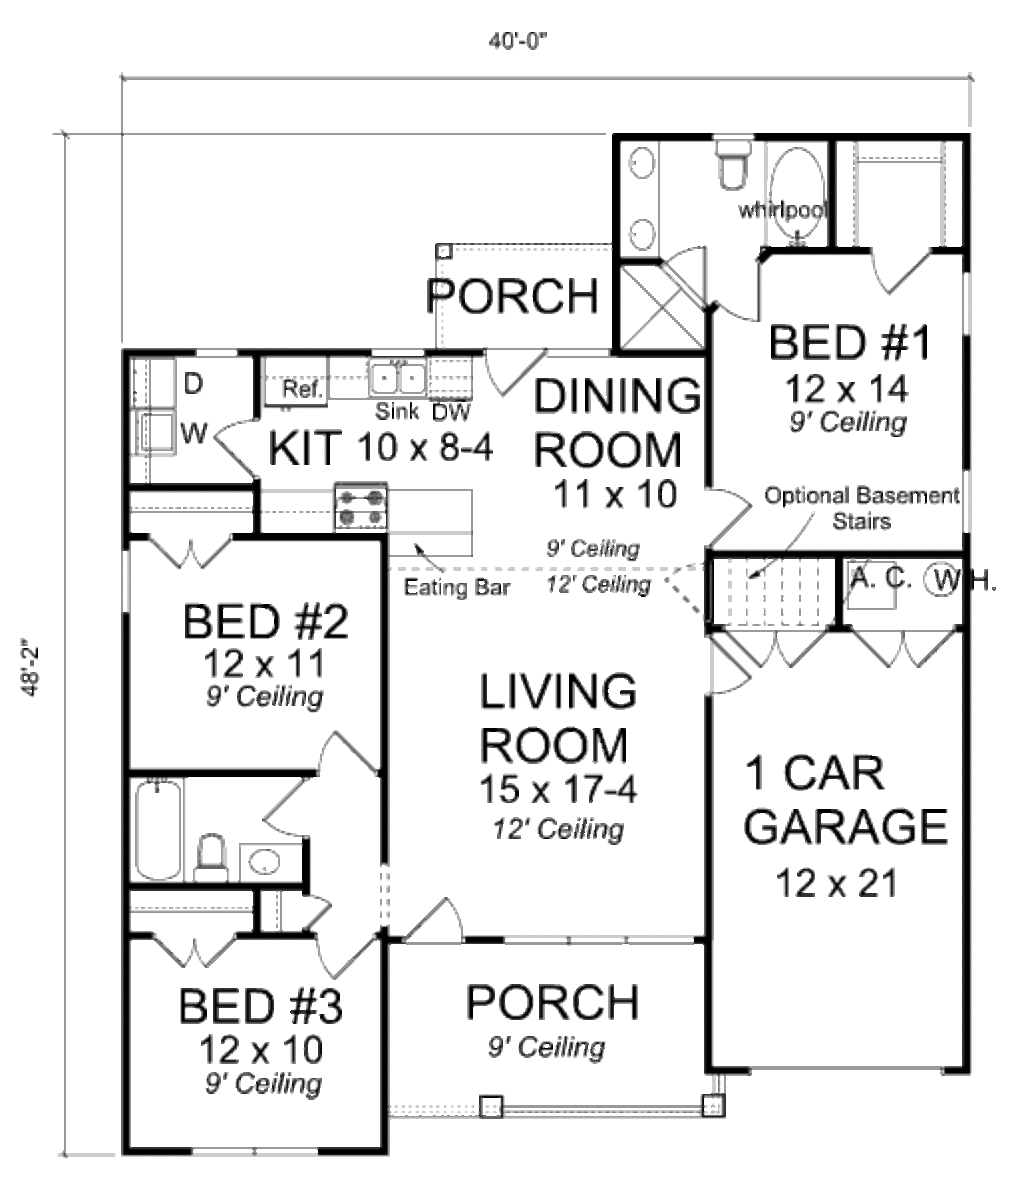door: (213, 421, 283, 491), (735, 624, 835, 671), (261, 763, 322, 834), (855, 628, 953, 671), (152, 924, 238, 969), (139, 527, 227, 567), (479, 354, 555, 400), (874, 243, 931, 304), (308, 723, 376, 774), (720, 262, 774, 321), (707, 478, 755, 545), (316, 928, 372, 980), (400, 900, 468, 941), (702, 630, 750, 689), (670, 243, 711, 300), (298, 891, 342, 930)
large_sink: (711, 136, 770, 204), (189, 830, 233, 886)
small_sink: (622, 136, 663, 260), (233, 837, 313, 887)
tub: (764, 139, 839, 252), (124, 763, 189, 886)
twin_sink: (363, 354, 431, 400)
window: (959, 471, 979, 554), (960, 269, 975, 343)
